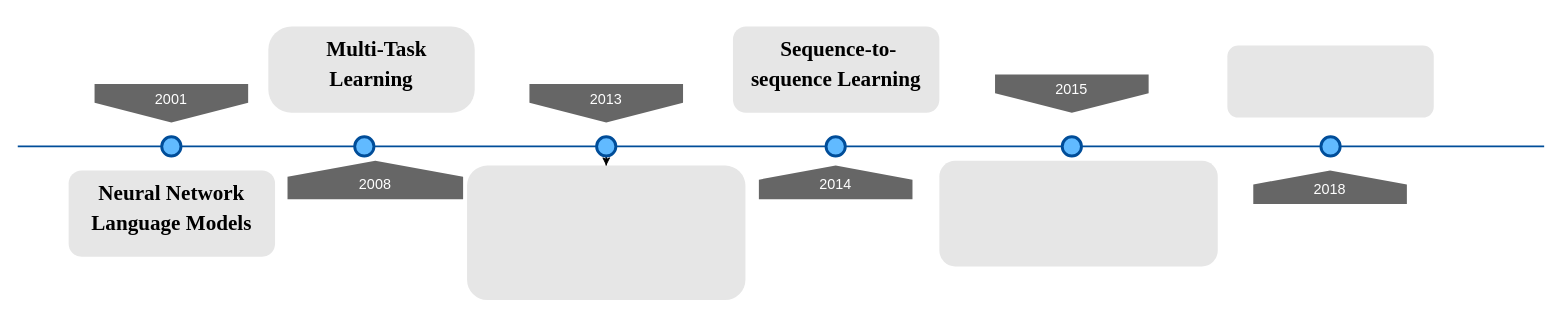
Image size: 1561x316. Some labels were removed from this diagram. The shapes that lost their labels are listed below. From the top down, each one's centre as x and y in pixels, then its label:
[1330,81]: Pre-trained Language models
[606,232]: 1、Word Embedding 2、 Neural Network for NLP
[1078,213]: 1、Attention Mechanism 2、Memory-Based Network
